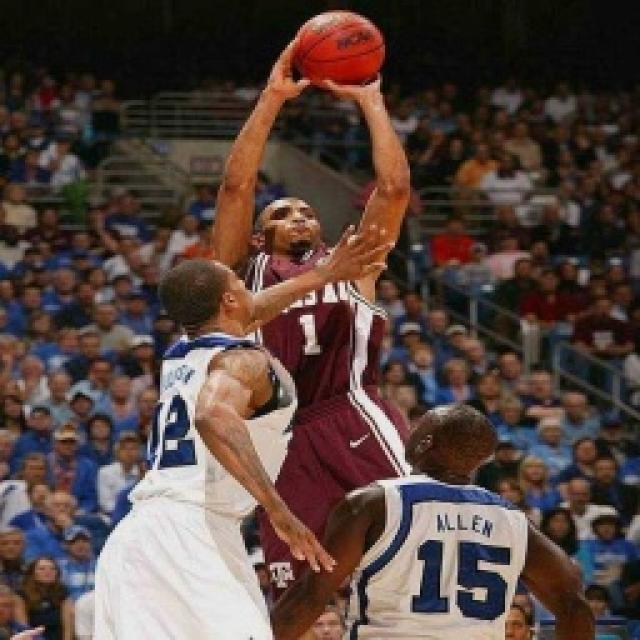rim: (282, 3, 399, 96)
